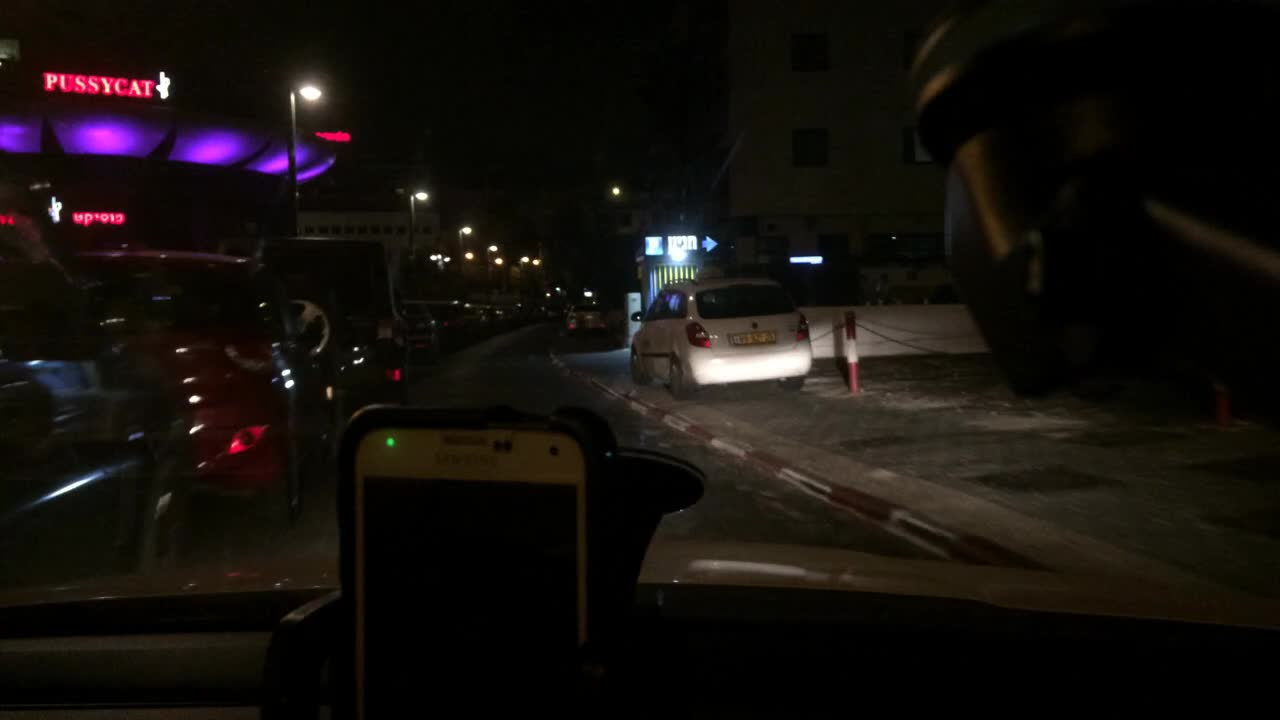car: (70, 249, 332, 521), (0, 207, 190, 581), (257, 233, 403, 403), (628, 279, 810, 396), (399, 306, 446, 362), (440, 298, 473, 354), (564, 304, 608, 337), (483, 302, 523, 328), (465, 297, 488, 341), (546, 304, 564, 317)
traffic sign: (667, 234, 725, 252), (646, 236, 662, 252)
